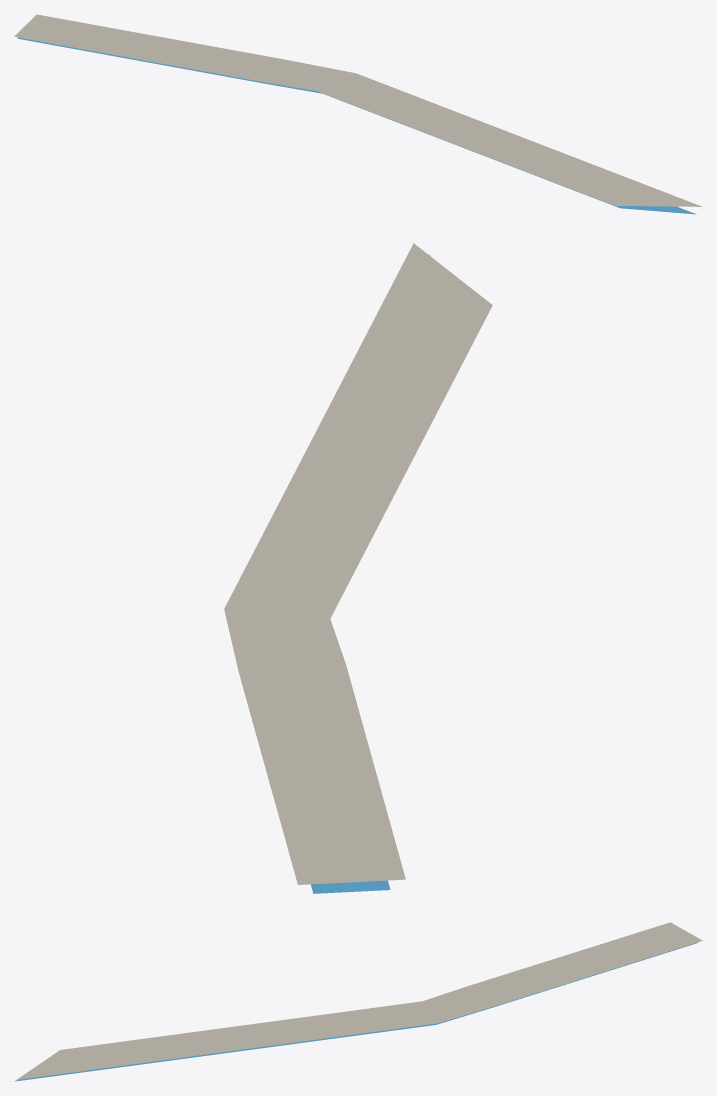
3 renders of one model, top to bottom at view 1: azimuth 30°, elevation 25°; view 2: azimuth 150°, elevation 25°; view 3: azimuth 270°, elevation 25°, orthographic. The views are drawn at different scales.
Parts seen in each view (by area): view 1: estructura_terreno, estructura_agua; view 2: estructura_terreno; view 3: estructura_terreno, estructura_agua.
Part boxes in pixels (box(x1,y1,x2,y2)): estructura_terreno: box(14, 14, 702, 206); estructura_agua: box(17, 37, 696, 214); estructura_terreno: box(224, 243, 492, 884); estructura_terreno: box(17, 922, 702, 1079); estructura_agua: box(14, 942, 697, 1081).
Bounding box in the file's own units: 28.82 × 0.41 × 53.21.
